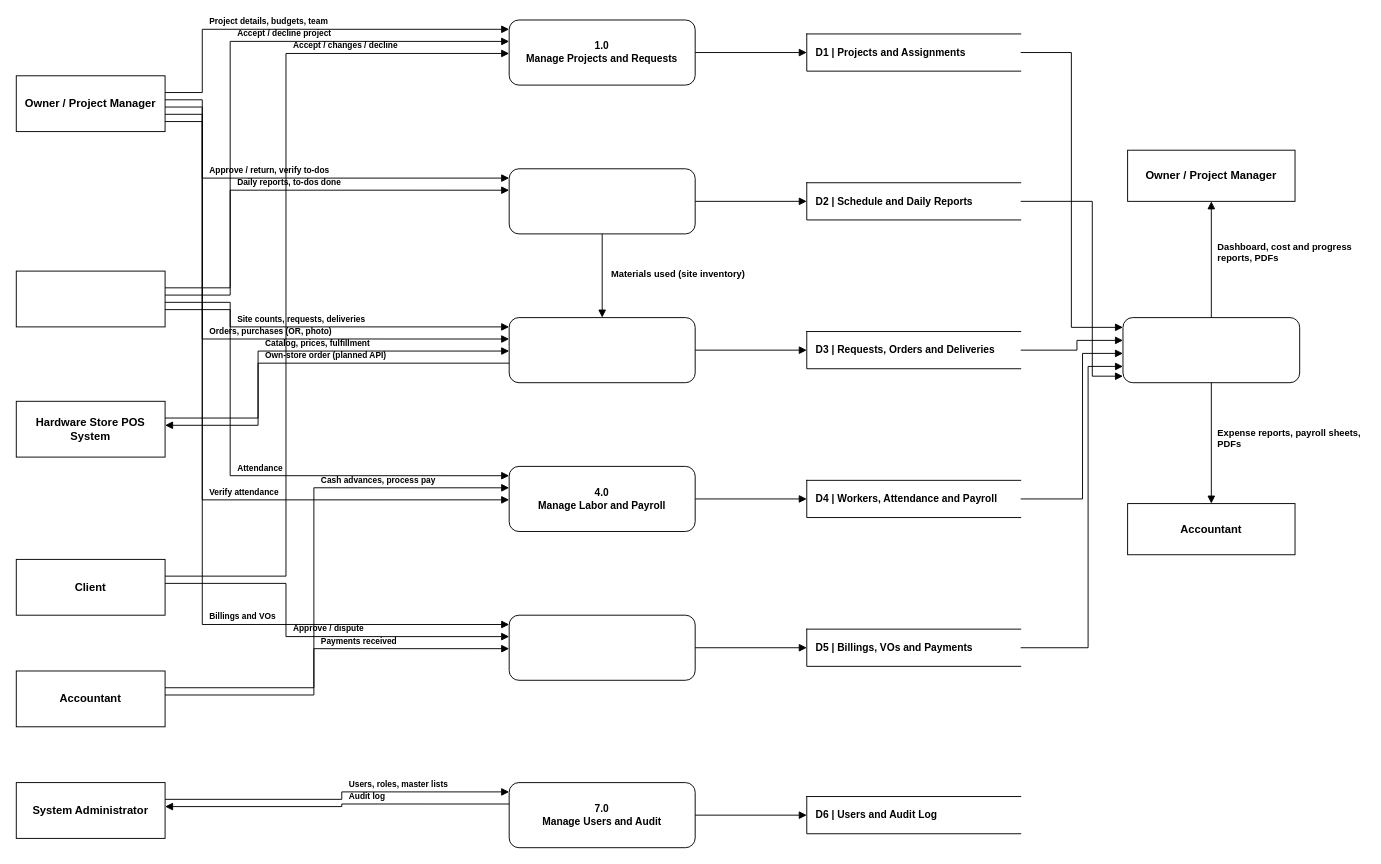
This 1381x864 diagram has some shape labels left out. The shapes that lost their labels are listed below. From the top down, each one's box as (x1, y1, x2, y2) in pixels, then its label:
(508, 168, 695, 234): 2.0 Manage Schedule and Daily Reports
(15, 270, 165, 327): Site Engineer / Foreman
(508, 317, 695, 383): 3.0 Process Material Requests and Orders
(1122, 317, 1300, 383): 6.0 Generate Reports
(508, 614, 695, 680): 5.0 Manage Billing and Payments
